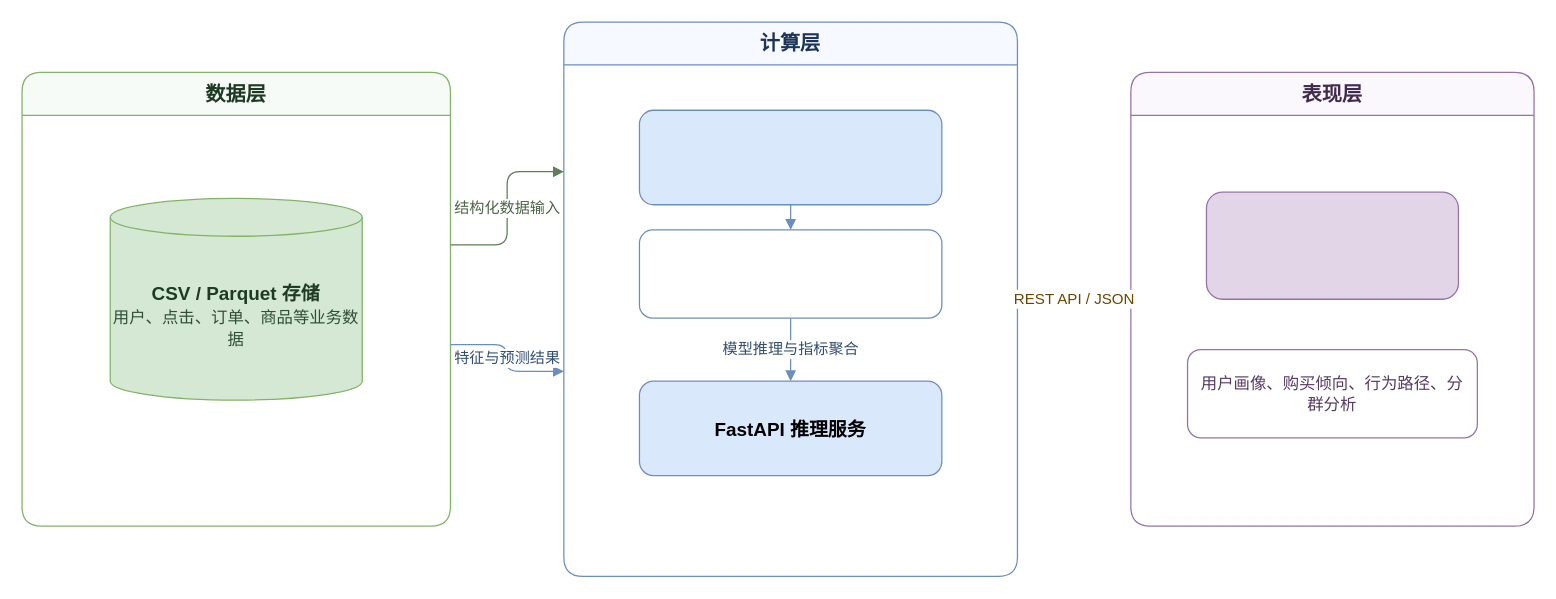
Some shapes in this 1556 by 599 pixel diagram are drawn without their labels. Each missing label, with the centre of its shape:
Plotly.js 仪表盘: point 1331,245
时间窗口划分、标签构造、行为特征提取: point 790,273
特征工程流水线: point 790,157
